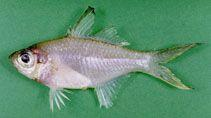Glass Perchlet: (9, 6, 205, 114)
